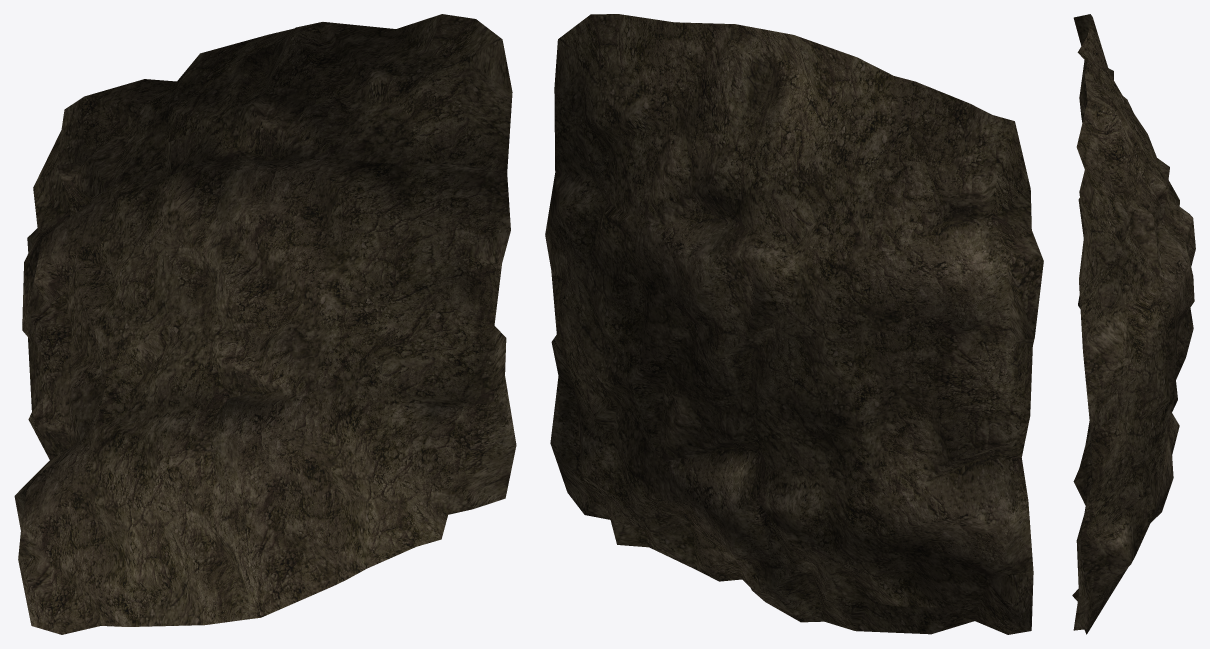
File: FO_Mud_06_LOD_01.fbx
The picture shows the model from 3 angles, left to right: view 1: azimuth 30°, elevation 25°; view 2: azimuth 150°, elevation 25°; view 3: azimuth 270°, elevation 25°; orthographic projection. The views are drawn at different scales.
Parts seen in each view (by area): view 1: FO_Mud_06_LOD_01; view 2: FO_Mud_06_LOD_01; view 3: FO_Mud_06_LOD_01.
Part boxes in pixels (box(x1,y1,x2,y2)): FO_Mud_06_LOD_01: box(14, 14, 516, 634); FO_Mud_06_LOD_01: box(545, 14, 1043, 634); FO_Mud_06_LOD_01: box(1072, 14, 1195, 634).
Bounding box in the file's own units: 7.43 × 8.4 × 1.84.
